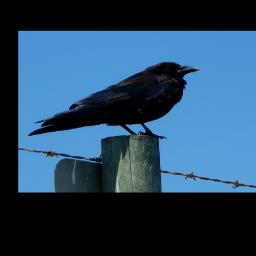Crow: (26, 61, 202, 140)
